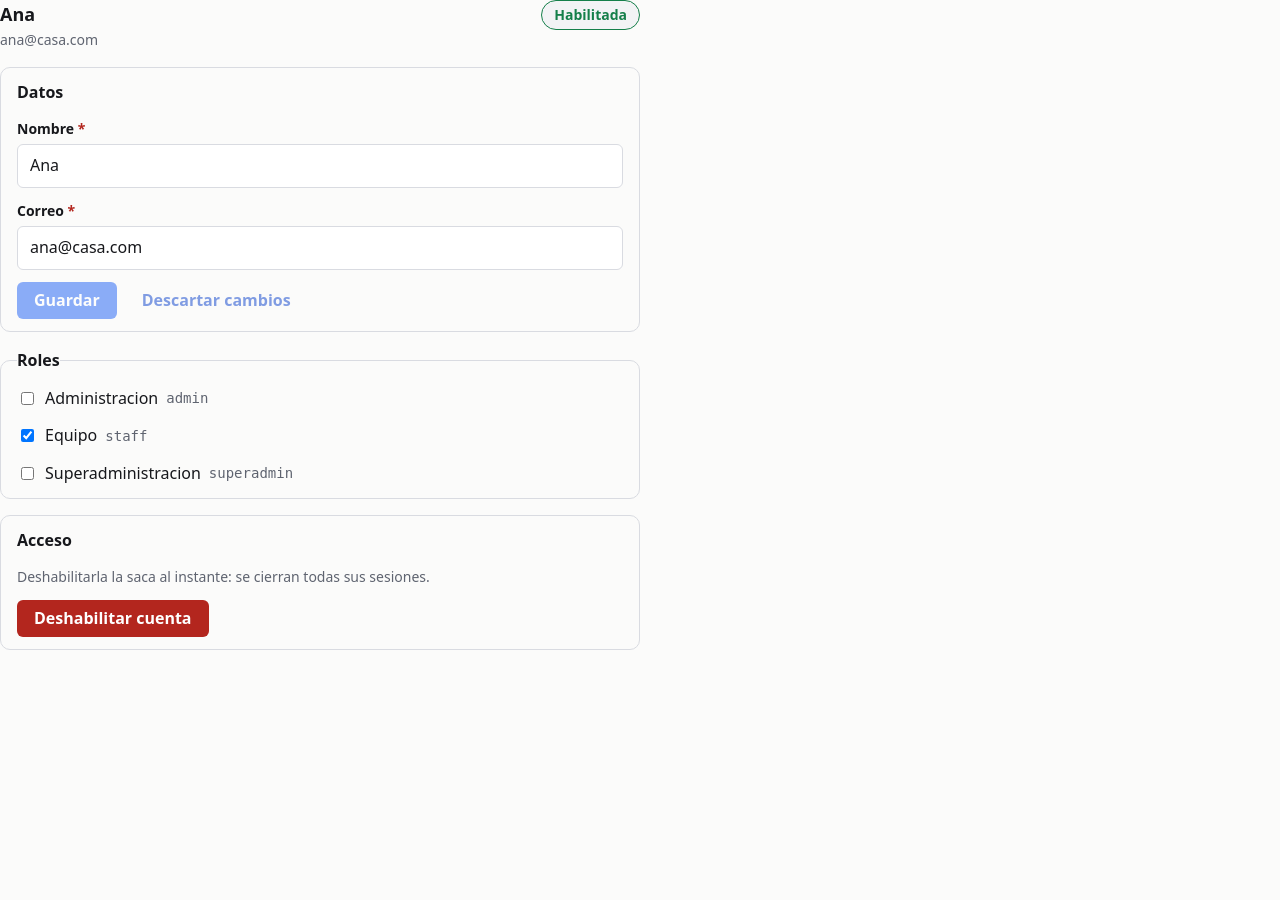
it: FichaDeCuenta › deshabilitar pide confirmacion antes de hacer nada
What coordinates should you click on to do the following:
click the button "Deshabilitar cuenta"
I would click on:
 (113, 619)
Its box is [17,600,208,638].
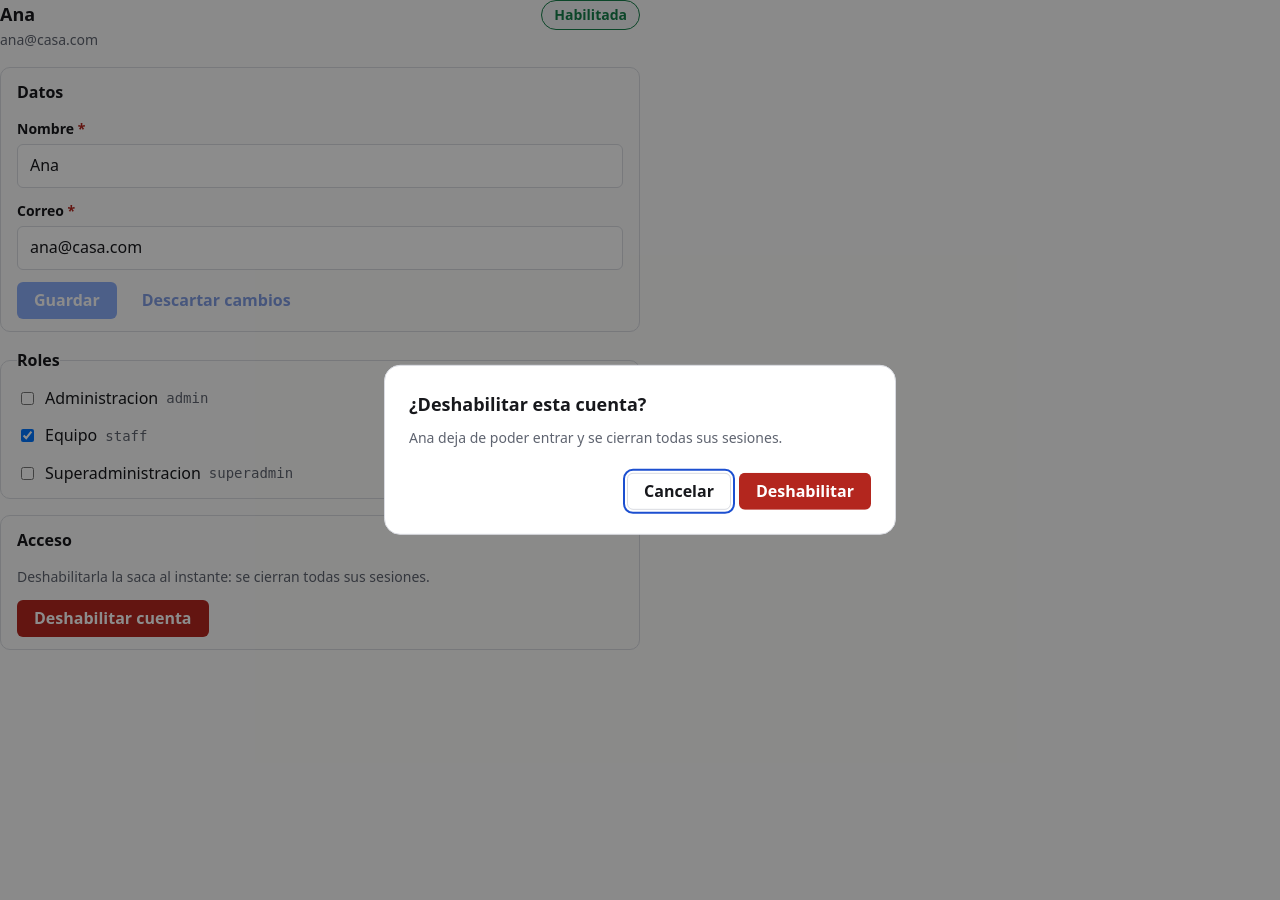
Expected: the text "se cierran todas sus sesiones" is shown, [17,567,430,586]
What coordinates should you click on to do the following:
click the button "Deshabilitar"
I would click on:
 (805, 492)
Its box is [739,473,871,510].
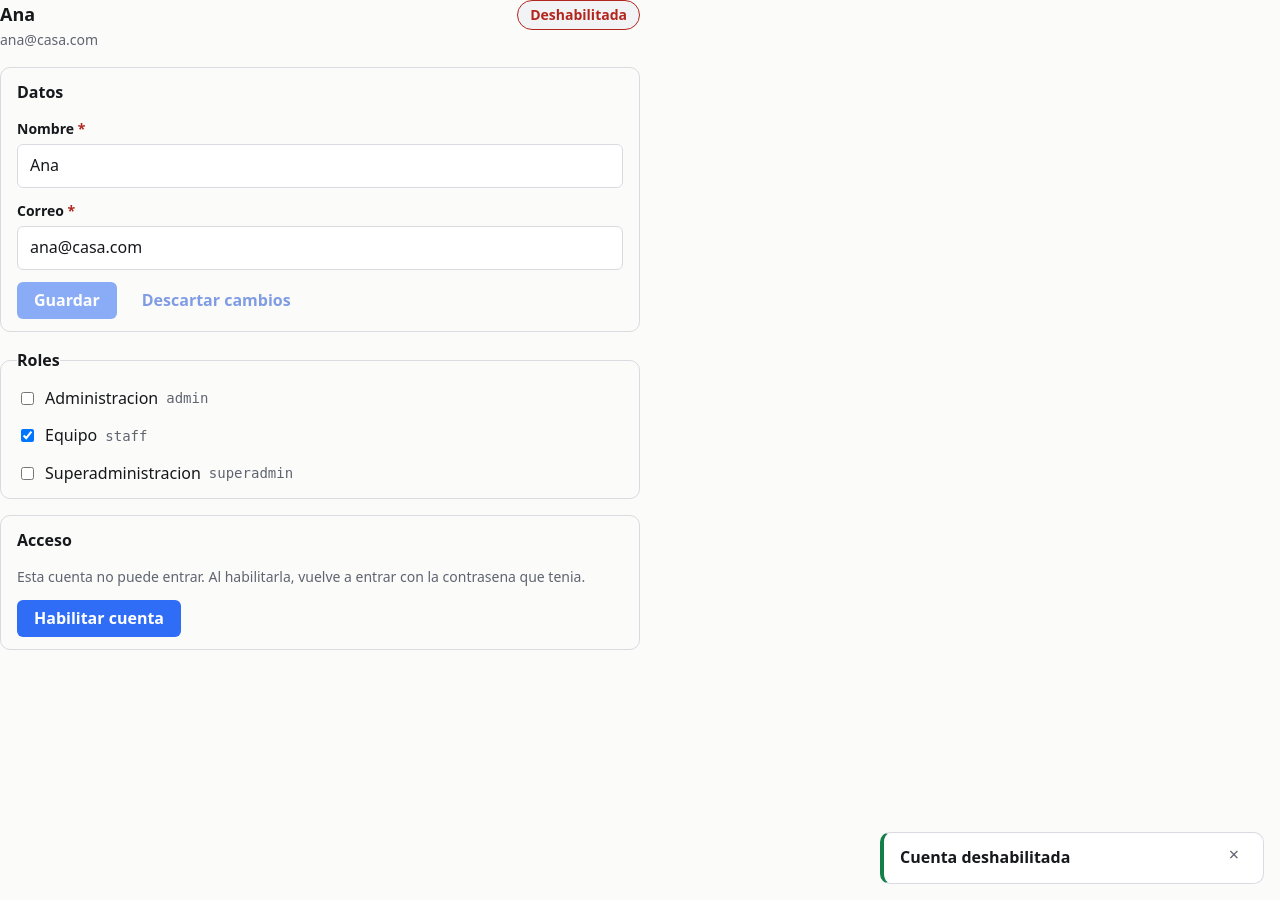
Expected: the button "Habilitar cuenta" is shown, [17,600,181,638]
Result: the element showing "Deshabilitada" is shown at [517,0,640,30]
